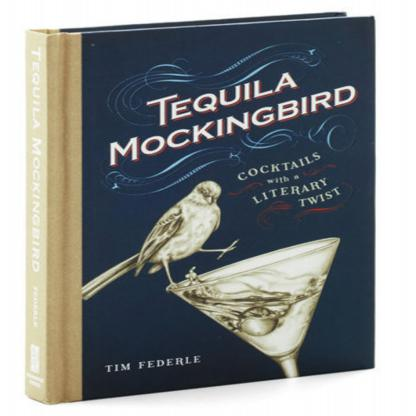book: (27, 11, 374, 406)
